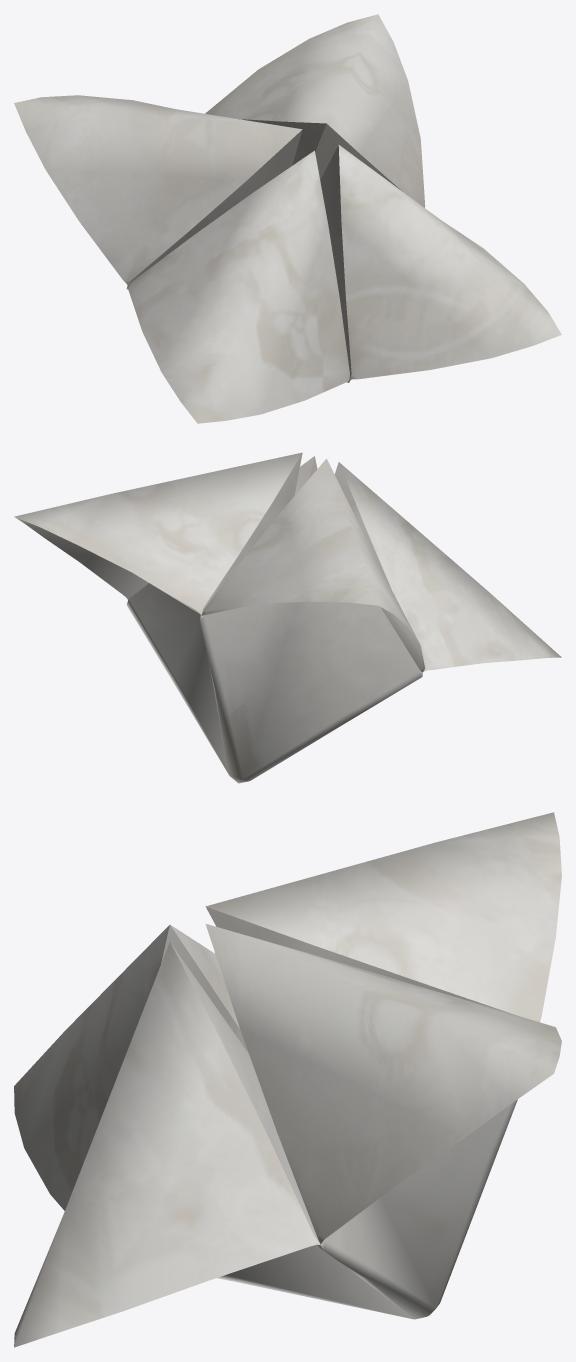
Rendered from ref_gtpaperfortune.fbx.
3 views of the same model, one above another, from view 1: azimuth 30°, elevation 25°; view 2: azimuth 150°, elevation 25°; view 3: azimuth 270°, elevation 25° (orthographic). The views are drawn at different scales.
Visible parts, largest first — view 1: ref_gtpaperfortune; view 2: ref_gtpaperfortune; view 3: ref_gtpaperfortune.
Part boxes in pixels (bbox=[...]): ref_gtpaperfortune: bbox=[14, 14, 561, 423]; ref_gtpaperfortune: bbox=[14, 452, 561, 783]; ref_gtpaperfortune: bbox=[14, 812, 561, 1347].
Size of the model in its own units: 100 by 71.07 by 87.75.
